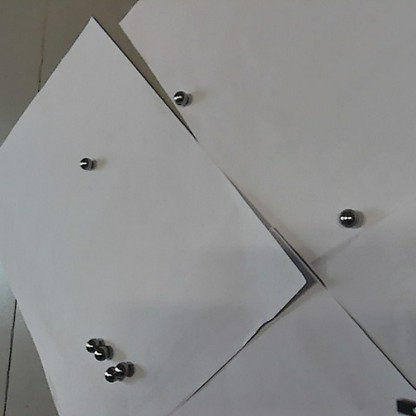ironball: (337, 207, 361, 231), (170, 87, 191, 108), (113, 361, 132, 382), (76, 153, 93, 173), (102, 363, 116, 383), (84, 336, 100, 353), (93, 343, 108, 361)
